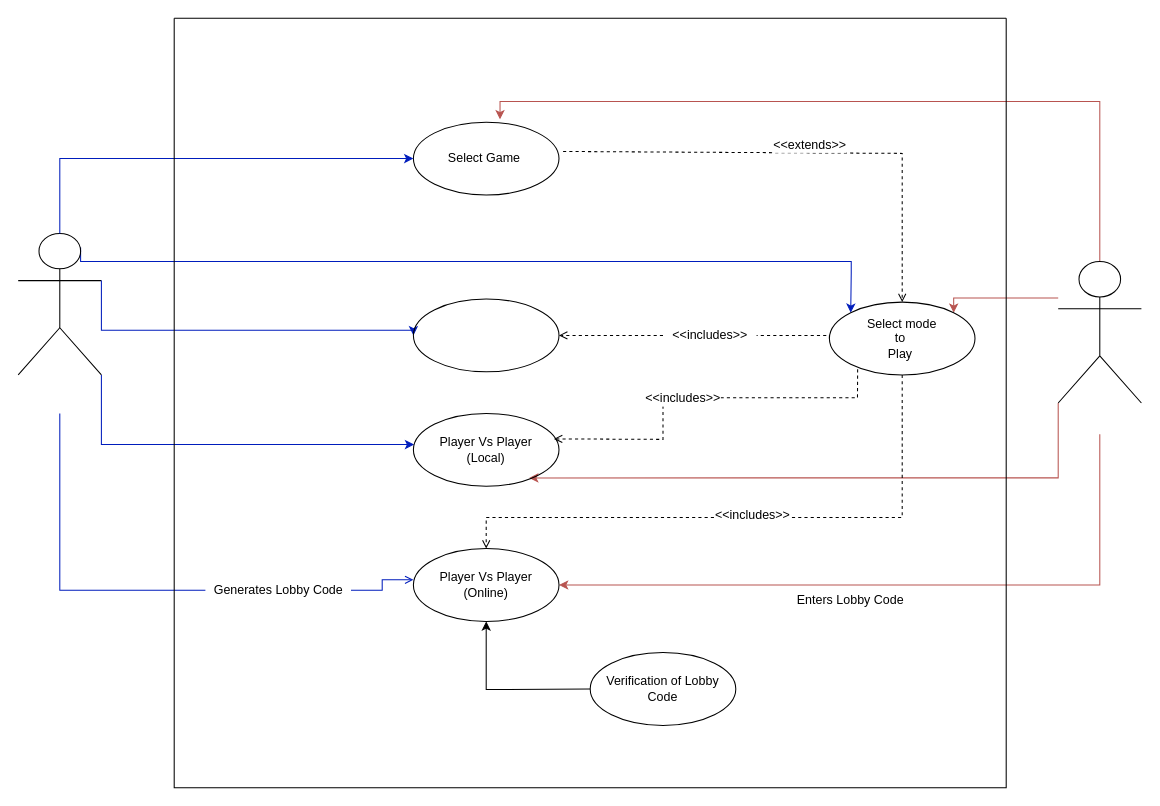
Some shapes in this 1160 by 806 pixel diagram are drawn without their labels. Each missing label, with the centre of its shape:
"Player 1" belongs at [59,303].
"Player 2" belongs at [1099,332].
"Player Vs AI" belongs at [485,335].
